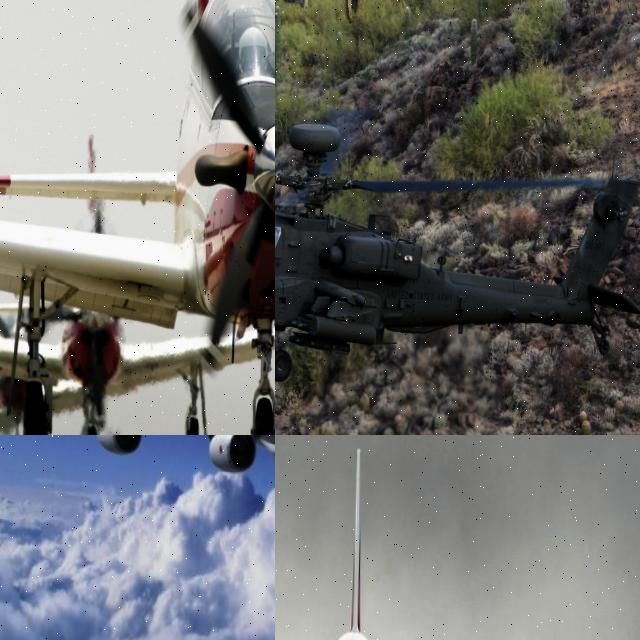A380: (275, 443, 640, 640), (0, 435, 275, 479)
Apache: (275, 105, 640, 385)
KT-1: (0, 60, 275, 435), (0, 0, 275, 250)
